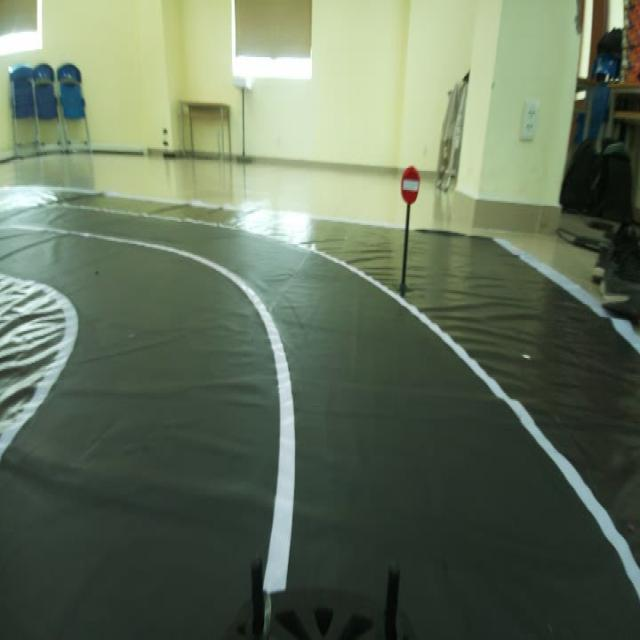no_entry: (396, 162, 422, 207)
